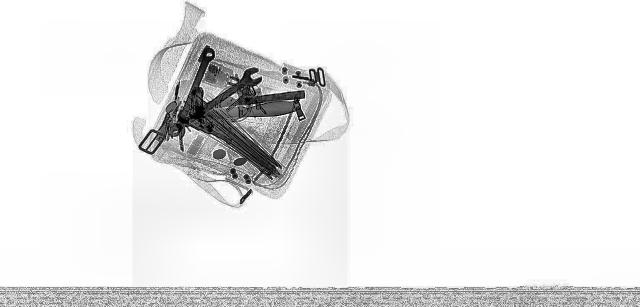Gun: (192, 86, 230, 142)
Knife: (182, 89, 306, 111), (182, 100, 302, 122)
Wrench: (156, 66, 274, 136), (170, 47, 218, 135)
